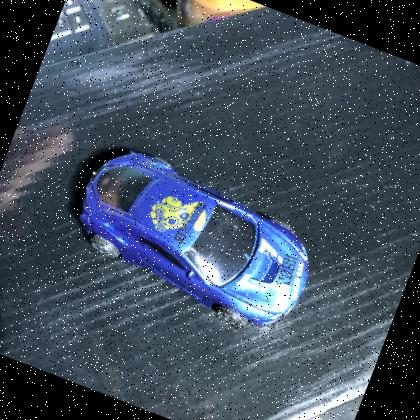Car: (79, 151, 309, 329)
